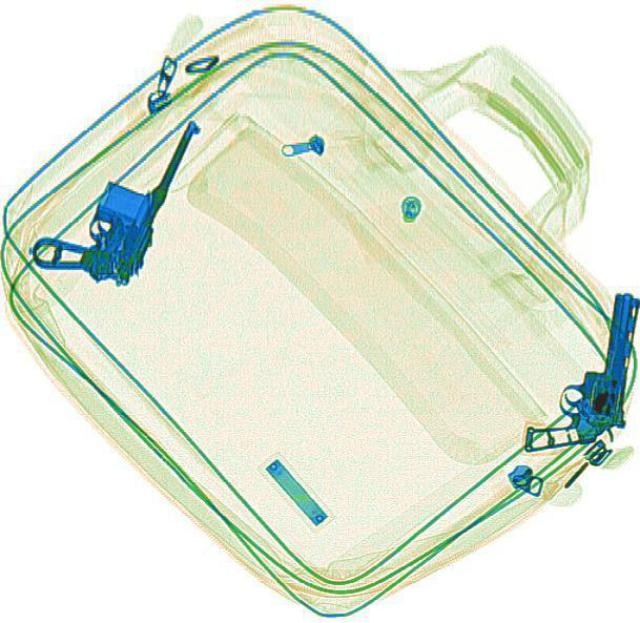Gun: (24, 88, 204, 295), (522, 283, 638, 456)
